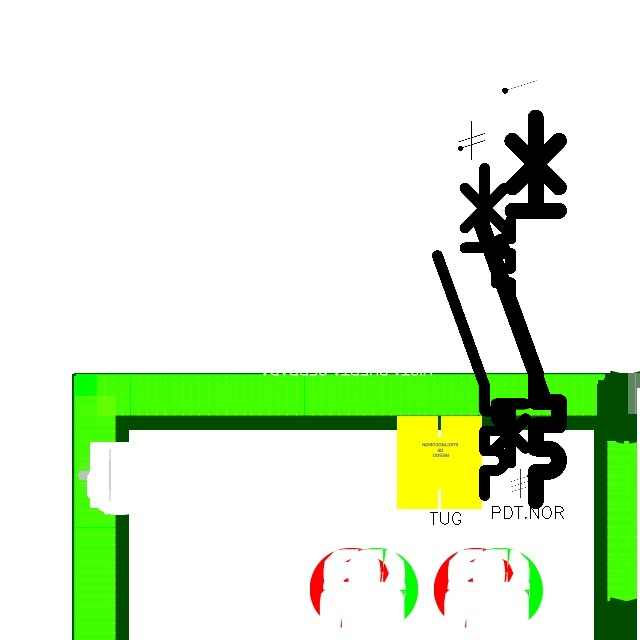interruptor_termomagnetico: (470, 107, 569, 510), (429, 159, 513, 503), (490, 214, 552, 469)
